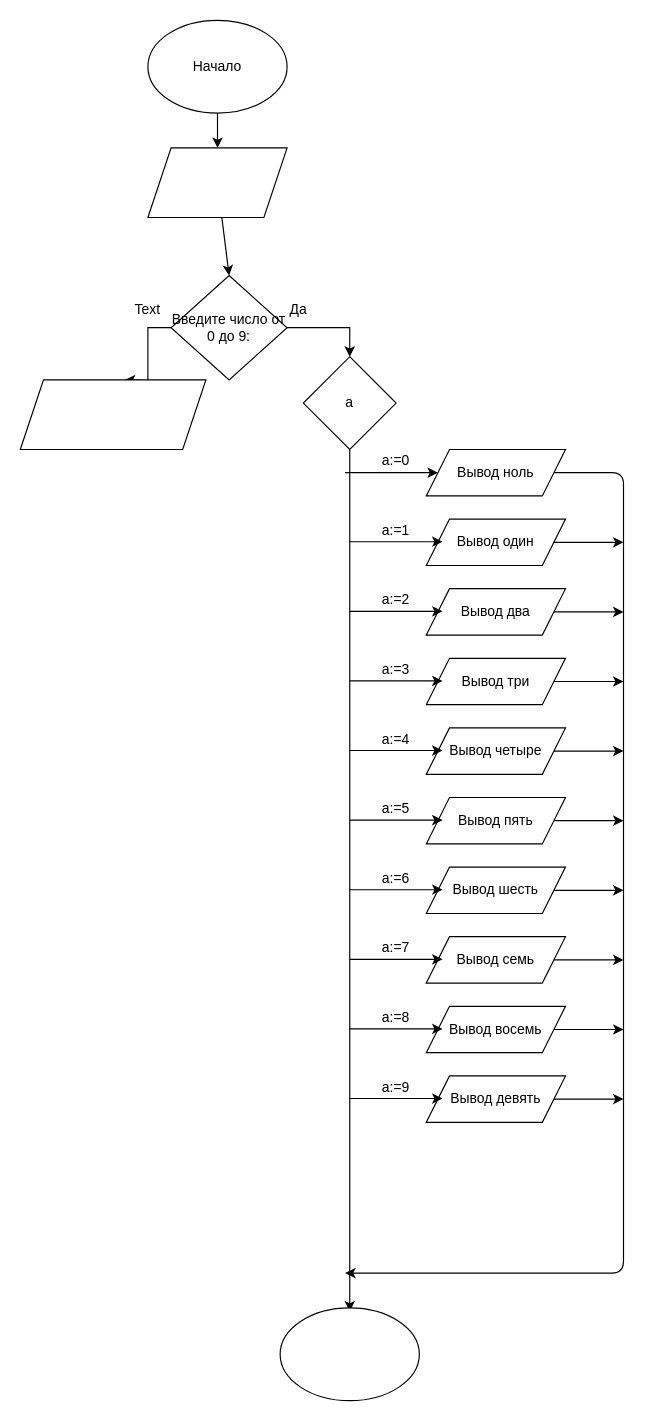
Image size: 653x1421. Some labels were removed from this diagram. Each missing label, with the box of its shape:
Ввод a: (147, 147, 287, 217)
Вывод: Число за пределами диапозона: (19, 379, 206, 449)
конец: (279, 1307, 419, 1401)
